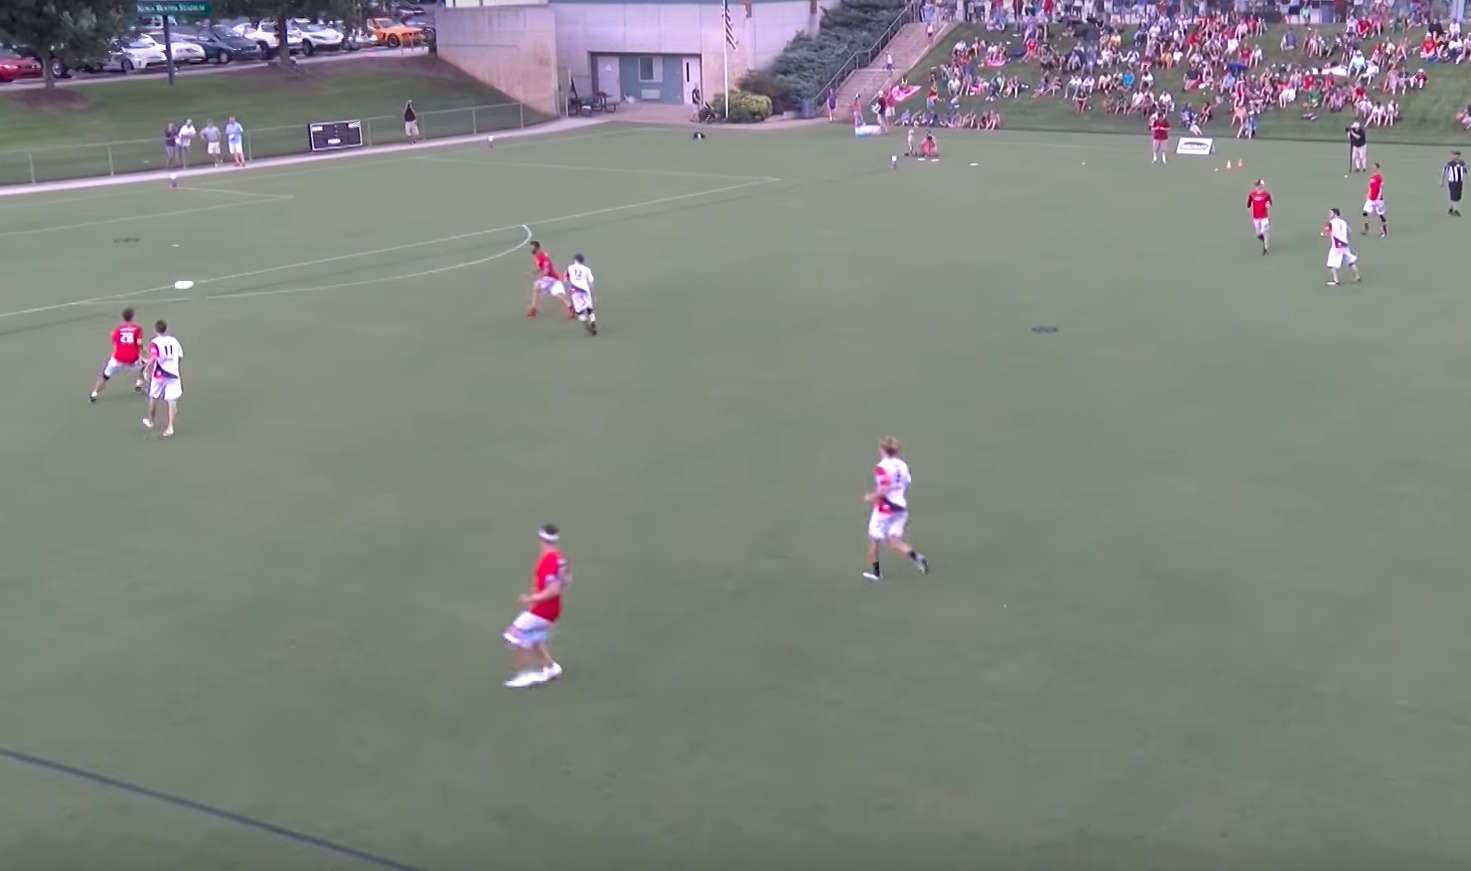frisbee: (174, 280, 193, 289)
